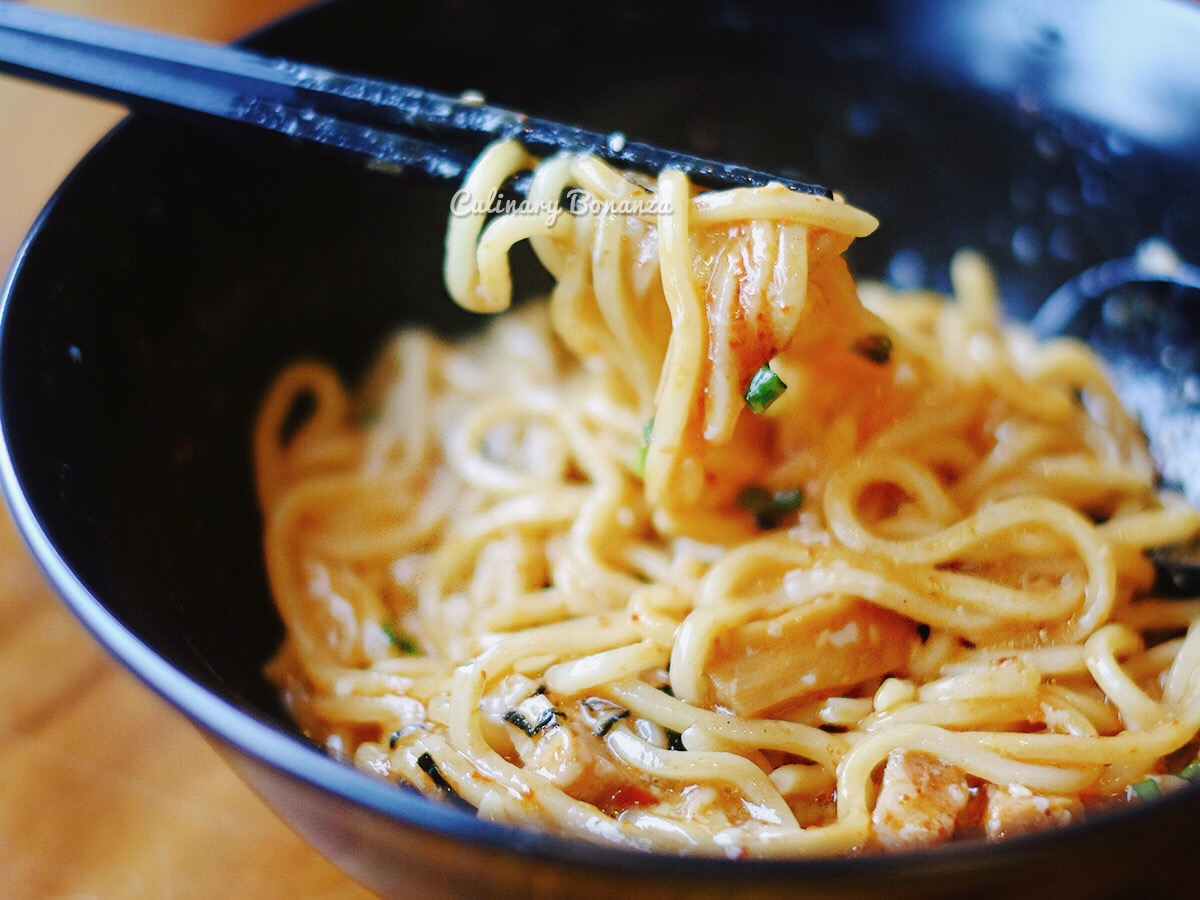Soba: (256, 196, 1186, 843)
